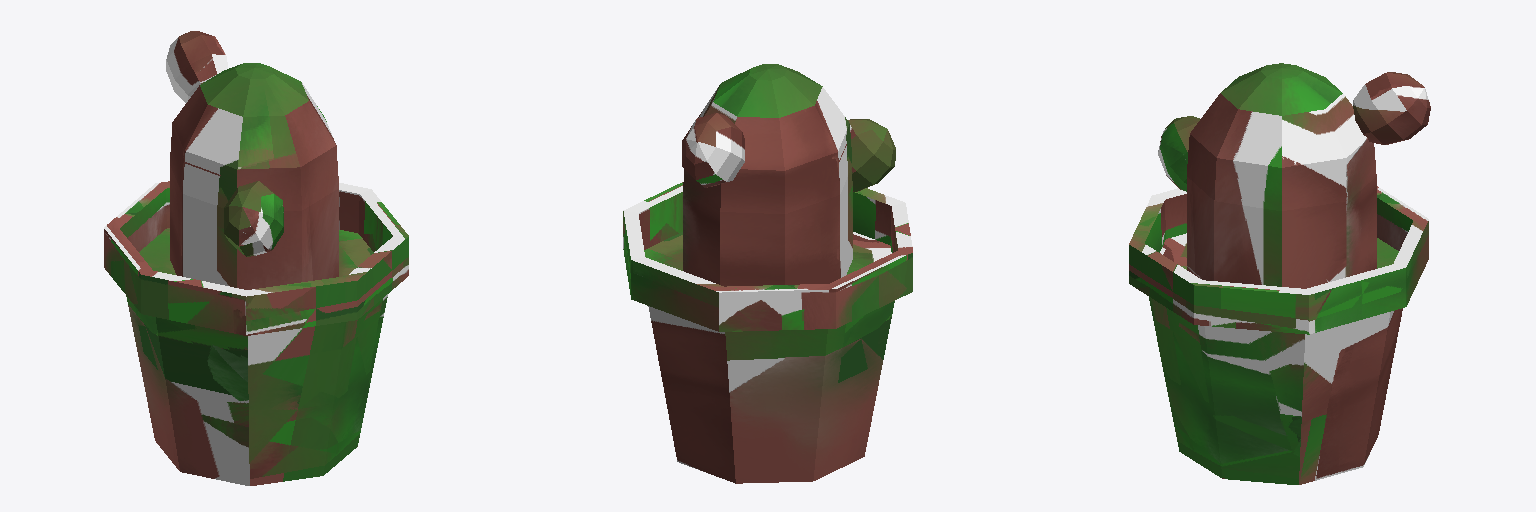
3 renders of one model, left to right at view 1: azimuth 30°, elevation 25°; view 2: azimuth 150°, elevation 25°; view 3: azimuth 270°, elevation 25°, orthographic.
Visible parts, largest first — view 1: Cactus_None.009; view 2: Cactus_None.009; view 3: Cactus_None.009.
Boxes of the visible parts, <box> form: Cactus_None.009: <box>104,31,408,485</box>; Cactus_None.009: <box>623,64,912,483</box>; Cactus_None.009: <box>1129,63,1430,484</box>.
Bounding box in the file's own units: 0.2146 × 0.2954 × 0.2159.
Materials: 1 (1 with a texture image).